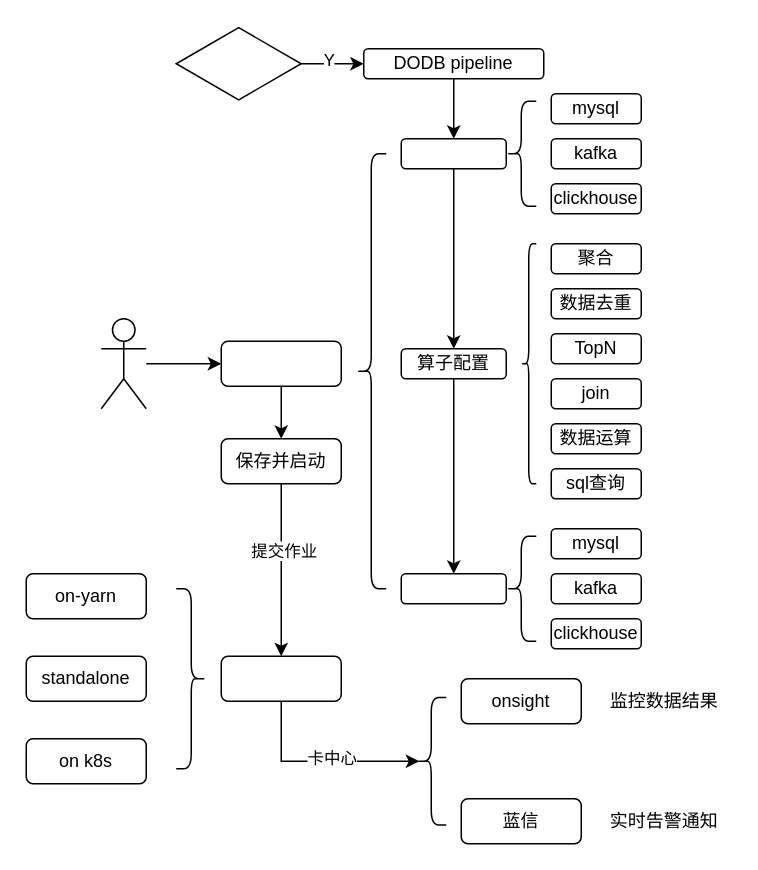
This 758x870 diagram has some shape labels left out. Here are the shapes that lost their labels. From the top down, the centre of each, then its label:
the point at 238,63: 数据预处理
the point at 453,153: 数据源配置
the point at 280,363: 创建dataflow
the point at 453,588: sink配置
the point at 280,678: flink集群
